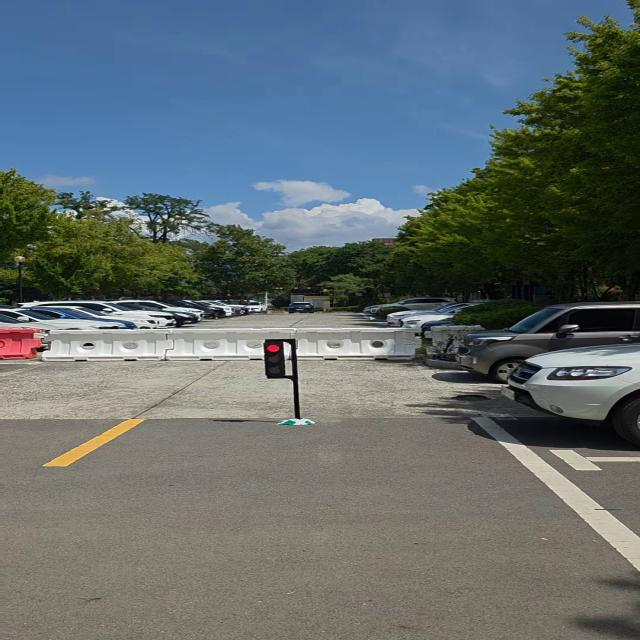red: (261, 341, 296, 379)
